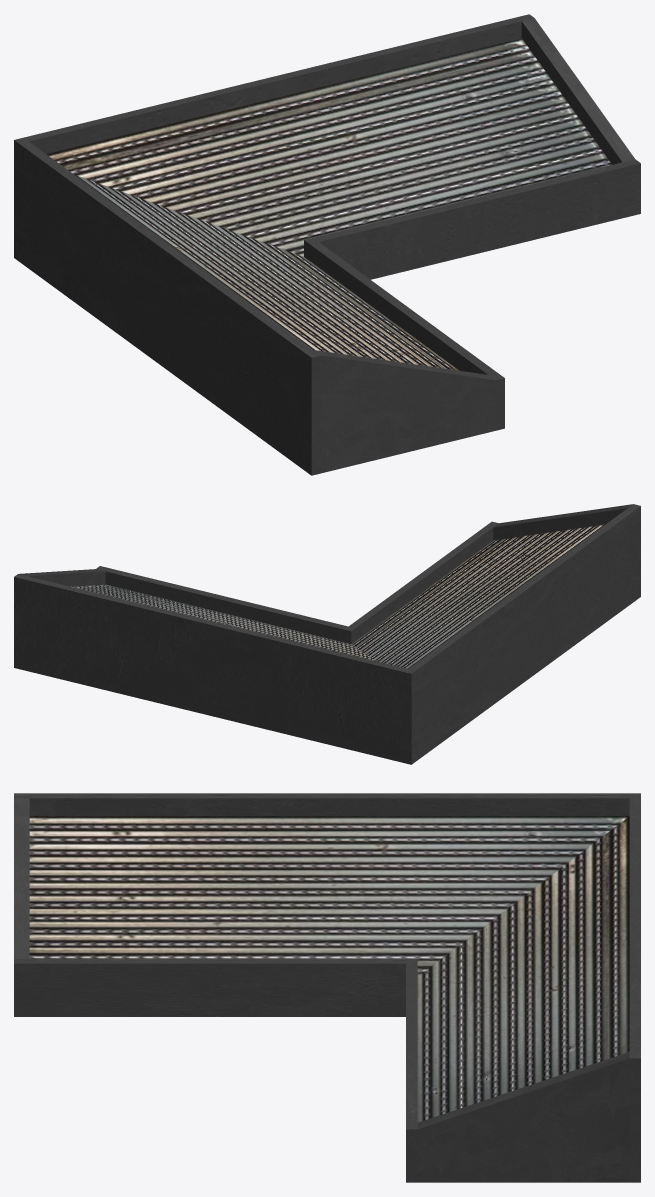
Rendered from grada.fbx.
The picture shows the model from 3 angles, top to bottom: view 1: azimuth 30°, elevation 25°; view 2: azimuth 150°, elevation 25°; view 3: azimuth 270°, elevation 25°; orthographic projection. The views are drawn at different scales.
Visible parts, largest first — view 1: Cube; view 2: Cube; view 3: Cube.
Boxes of the visible parts, bbox=[...] form: Cube: bbox=[14, 14, 640, 475]; Cube: bbox=[14, 504, 640, 764]; Cube: bbox=[14, 793, 640, 1182].
Bounding box in the file's own units: 1600 × 350 × 1600.
2 materials, 2 textured.
